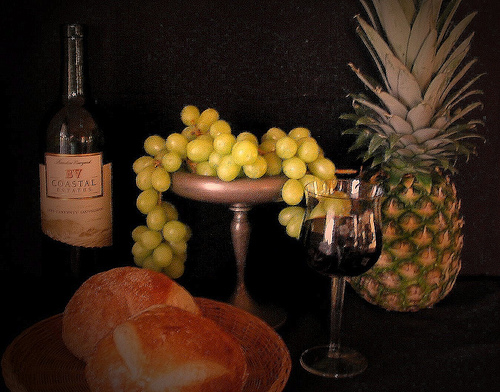pineapple: (336, 0, 492, 313)
